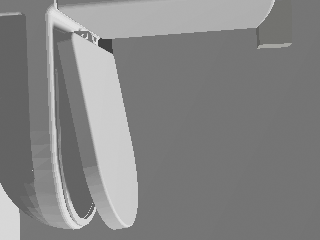lid_1: (58, 33, 137, 228)
